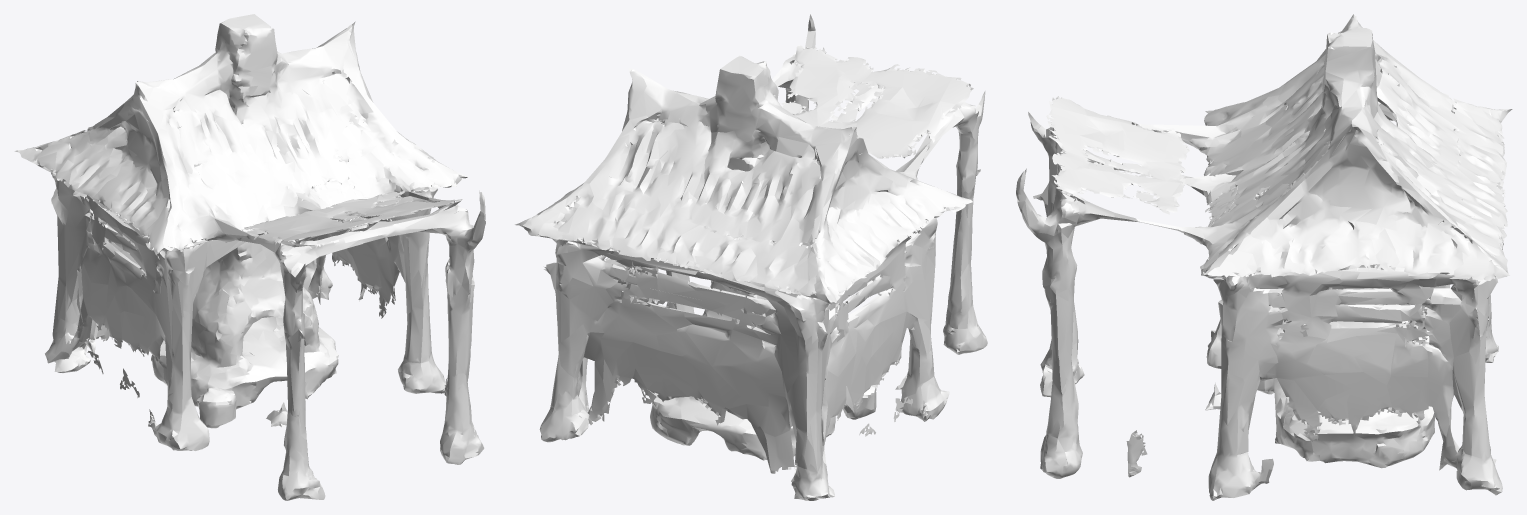
File: forge_smithy.glb
The picture shows the model from 3 angles, left to right: view 1: azimuth 30°, elevation 25°; view 2: azimuth 150°, elevation 25°; view 3: azimuth 270°, elevation 25°; orthographic projection. The views are drawn at different scales.
Visible parts, largest first — view 1: output_unwrapped; view 2: output_unwrapped; view 3: output_unwrapped.
Part boxes in pixels (x1,y1,x2,y2): output_unwrapped: (14,14,485,500); output_unwrapped: (515,14,987,500); output_unwrapped: (1016,14,1512,500).
Size of the model in its own units: 8.26 by 9 by 10.3.
Materials: 1 (1 with a texture image).
